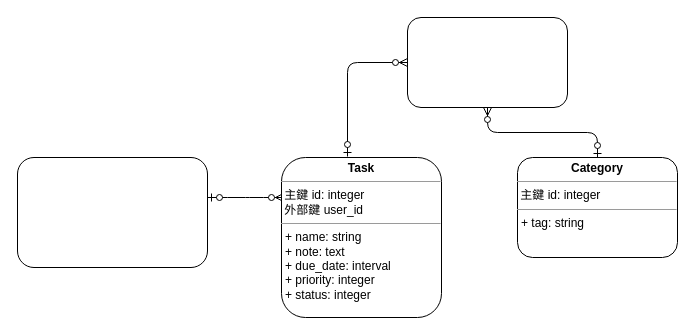
Image size: 695x335. Some labels were removed from this diagram. The shapes that lost their labels are listed below. From the top down, each one's centre as x and y in pixels, then its label:
the point at 487,62: CategoryTask 主鍵 id:integer 外部鍵 task_id 外部鍵 tag_id
the point at 112,212: User 主鍵 id: integer + email: string + password: string + role: integer
